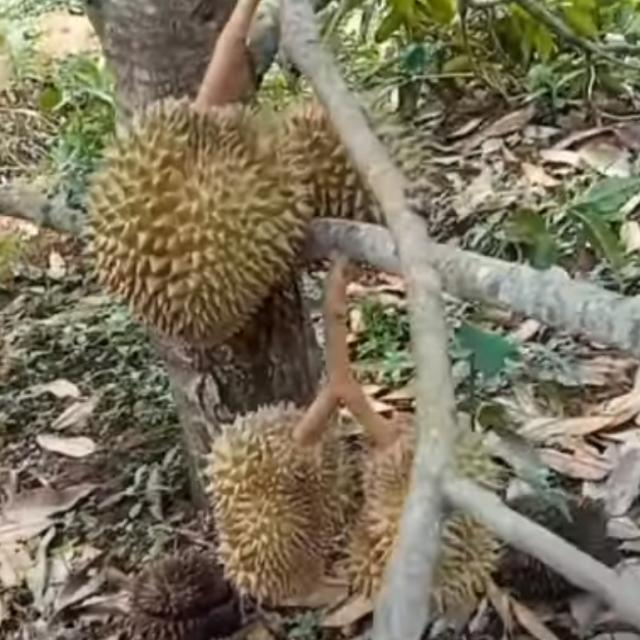defective: (127, 557, 245, 640)
mature: (85, 93, 309, 353), (205, 399, 345, 598)
